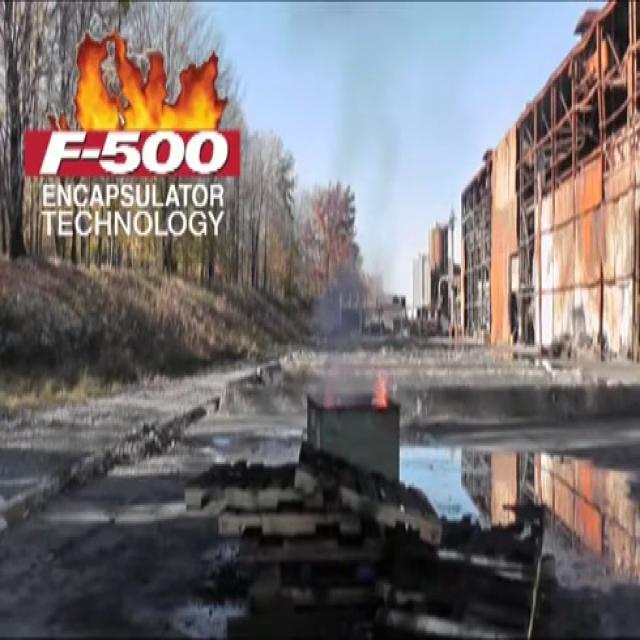Fire: (64, 28, 236, 138), (371, 369, 392, 411)
Smoke: (311, 257, 374, 410)
